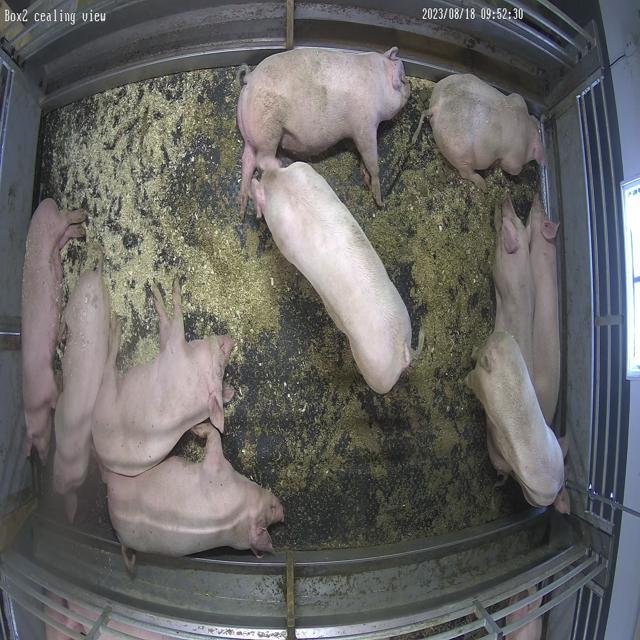Dirt: (224, 80, 539, 548), (216, 126, 240, 180)
Pig: (252, 162, 412, 394), (238, 47, 411, 214), (92, 281, 234, 478), (103, 423, 284, 572), (467, 331, 565, 508), (21, 198, 86, 462), (53, 270, 110, 522), (428, 74, 544, 186), (528, 195, 562, 422), (496, 195, 535, 374)
